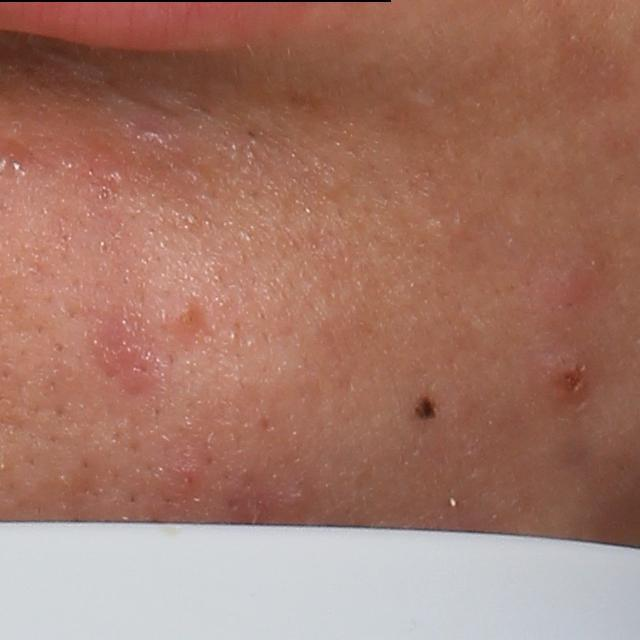papule: (105, 330, 158, 387), (545, 258, 593, 312), (172, 301, 200, 338)
